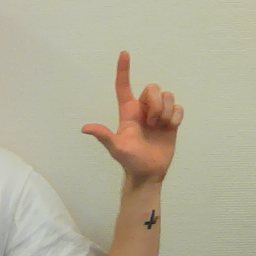L: (78, 48, 186, 183)
